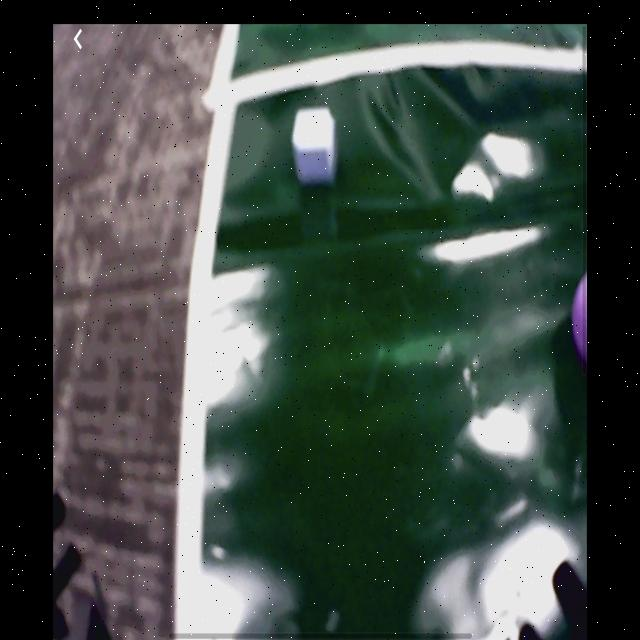ball: (571, 278, 588, 372)
